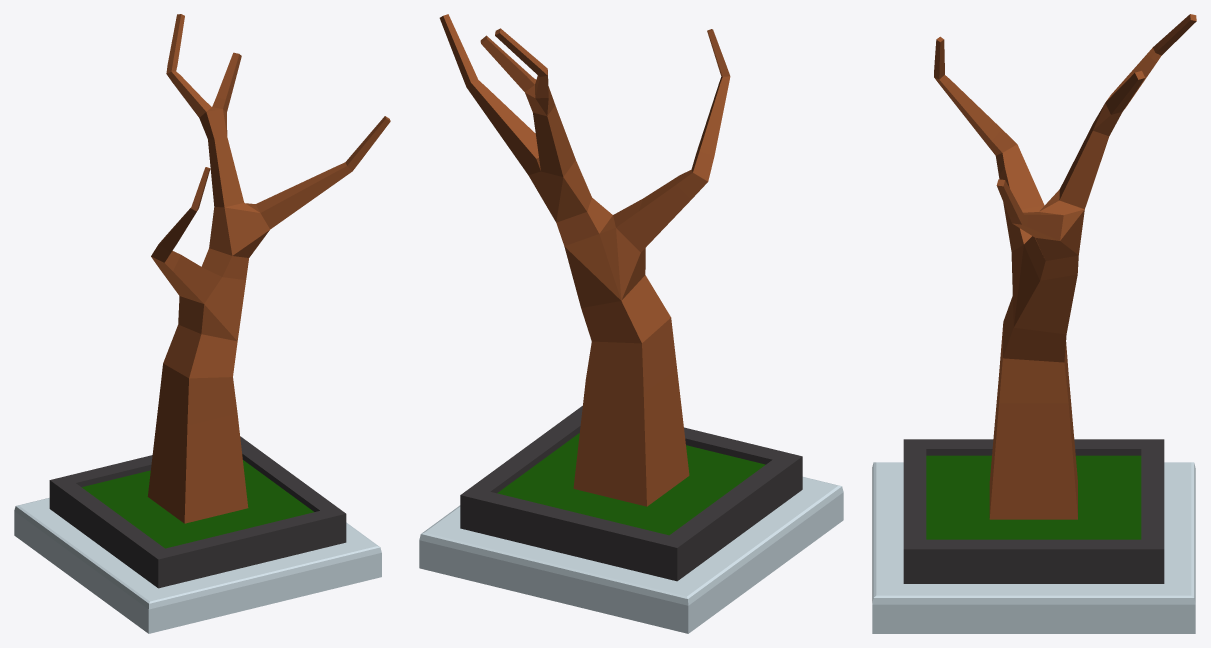
Rendered from floor_tile_00_tree.glb.
The picture shows the model from 3 angles, left to right: view 1: azimuth 30°, elevation 25°; view 2: azimuth 150°, elevation 25°; view 3: azimuth 270°, elevation 25°; orthographic projection. The views are drawn at different scales.
Parts seen in each view (by area): view 1: floor_tile_00_tree; view 2: floor_tile_00_tree; view 3: floor_tile_00_tree.
Boxes of the visible parts, x1,y1,x2,y2 form: floor_tile_00_tree: (14, 14, 390, 633); floor_tile_00_tree: (419, 14, 843, 633); floor_tile_00_tree: (872, 14, 1196, 633).
Bounding box in the file's own units: 5.07 × 7.92 × 4.02.
